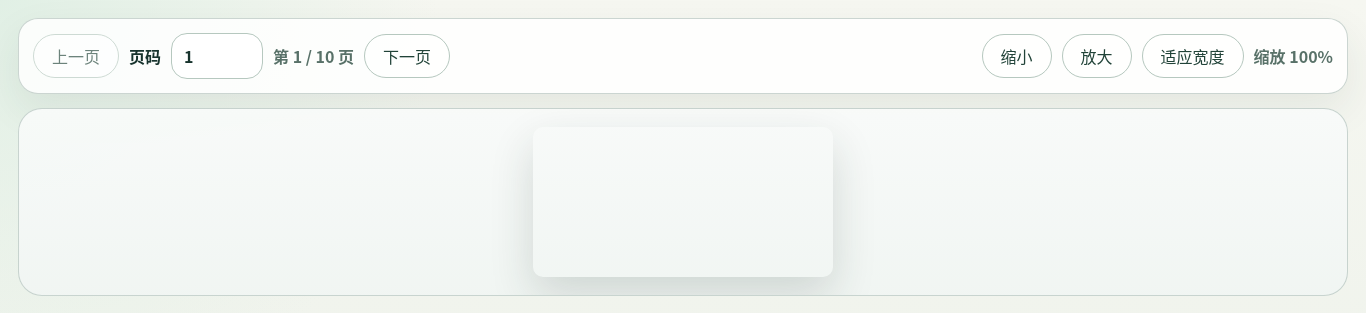
Test: PdfPanel › computes fit width from a real non-zero region and clamps the result
Click the button "适应宽度".
click(1193, 56)  # box [1142,34,1244,78]
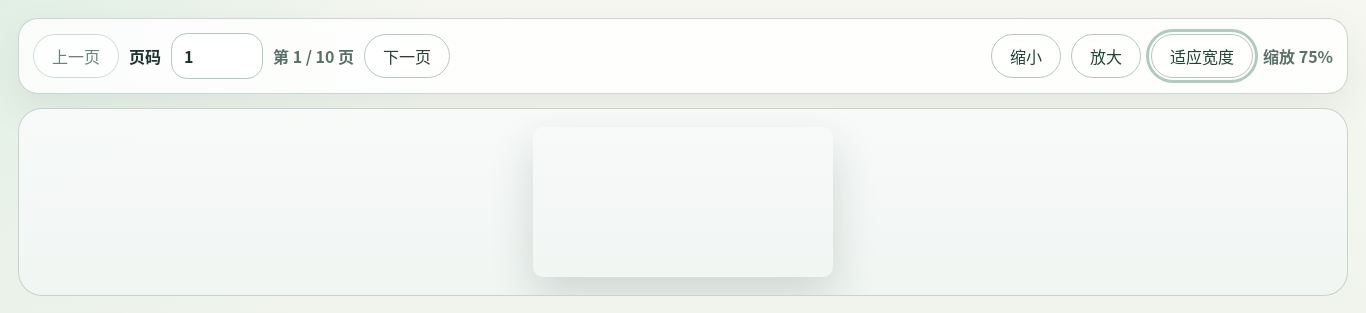
Now the message named "缩放状态" reads "缩放 75%", box [1263,44,1333,68]
Click the button "适应宽度".
click(1202, 56)  # box [1151,34,1253,78]
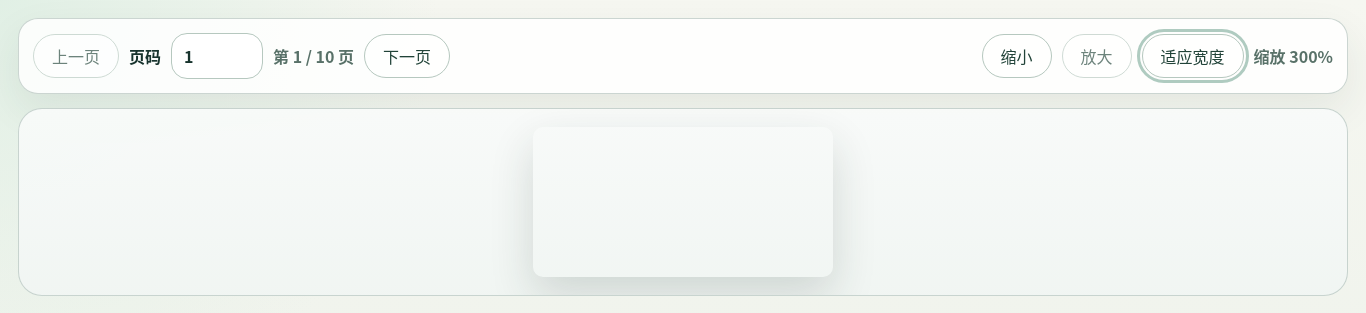
Now the message named "缩放状态" reads "缩放 300%", box [1254,44,1333,68]
